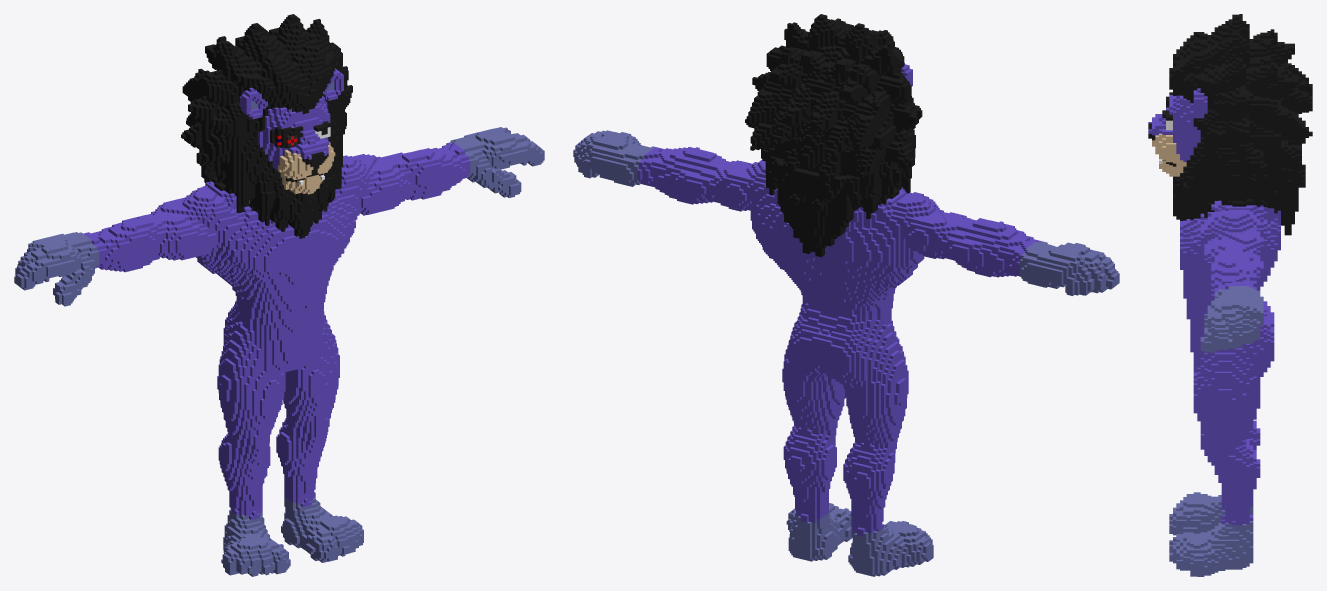
3 views of the same model, side by side, from view 1: azimuth 30°, elevation 25°; view 2: azimuth 150°, elevation 25°; view 3: azimuth 270°, elevation 25° (orthographic). The views are drawn at different scales.
Parts seen in each view (by area): view 1: standard; view 2: standard; view 3: standard.
Boxes of the visible parts, <box> form: standard: <box>14,14,544,576</box>; standard: <box>573,14,1119,576</box>; standard: <box>1148,14,1312,576</box>.
Bounding box in the file's own units: 17.2 × 16.5 × 4.7.
Materials: 4 (4 with a texture image).
